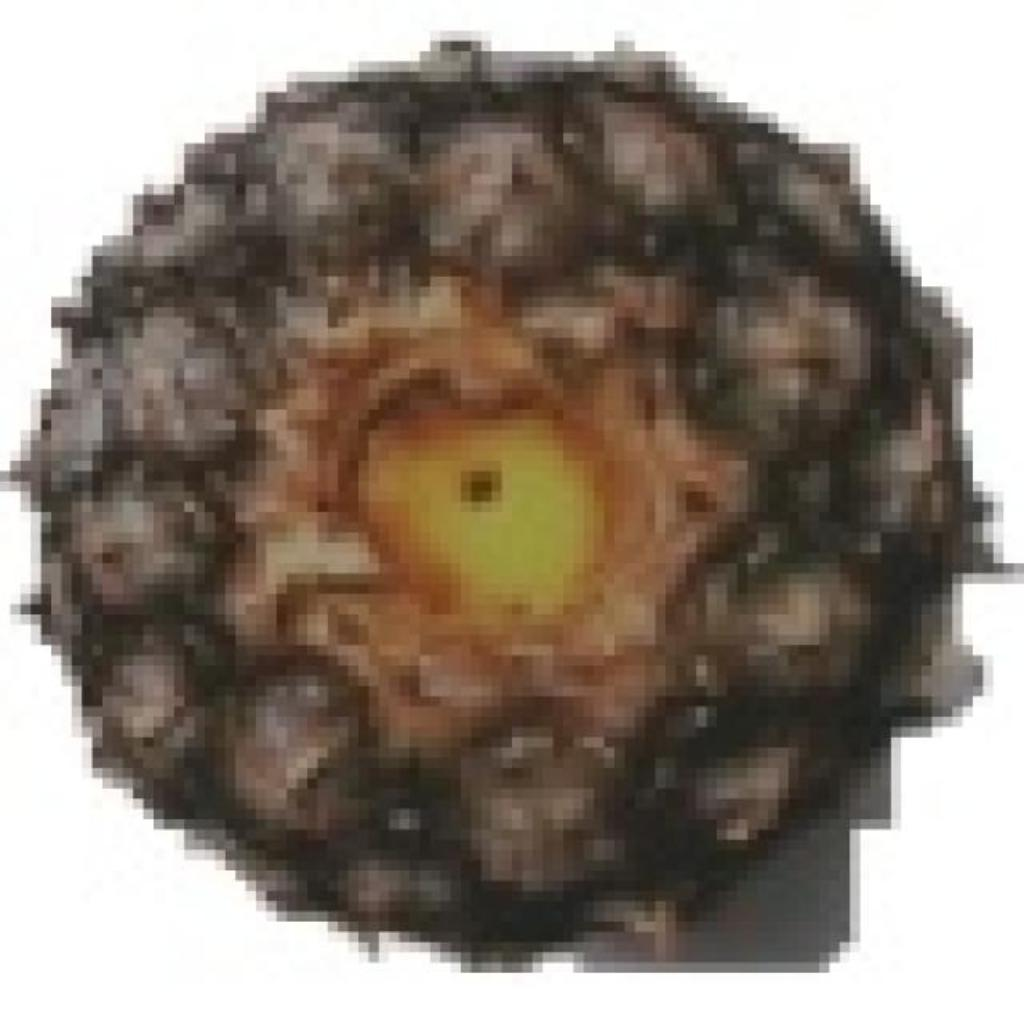pineapple: (20, 31, 963, 942)
